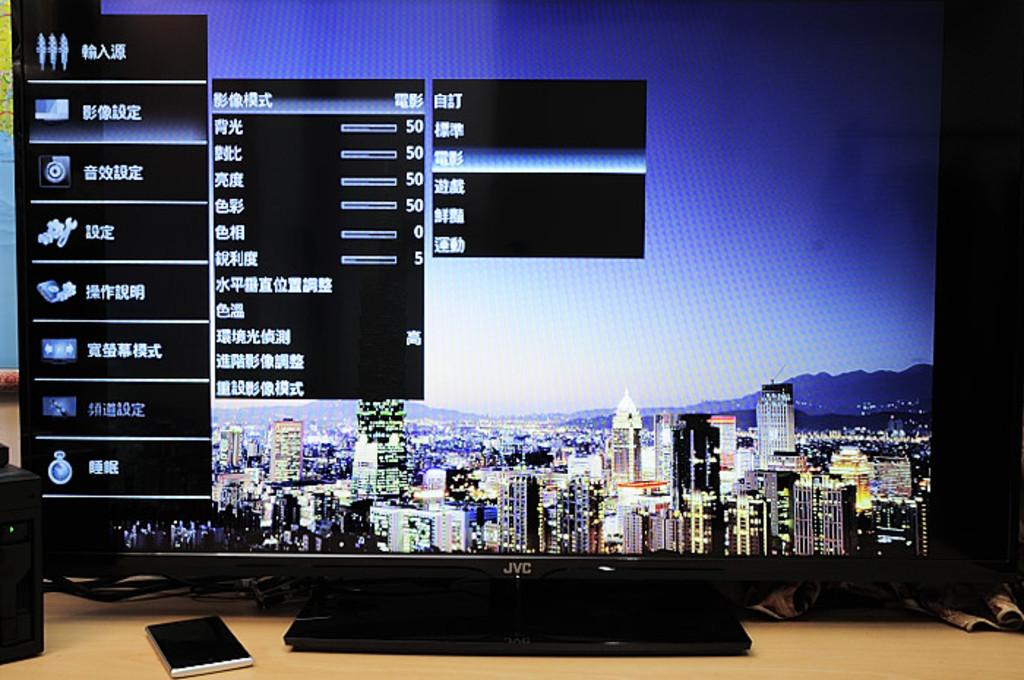Computer-monitor: (0, 60, 990, 680)
